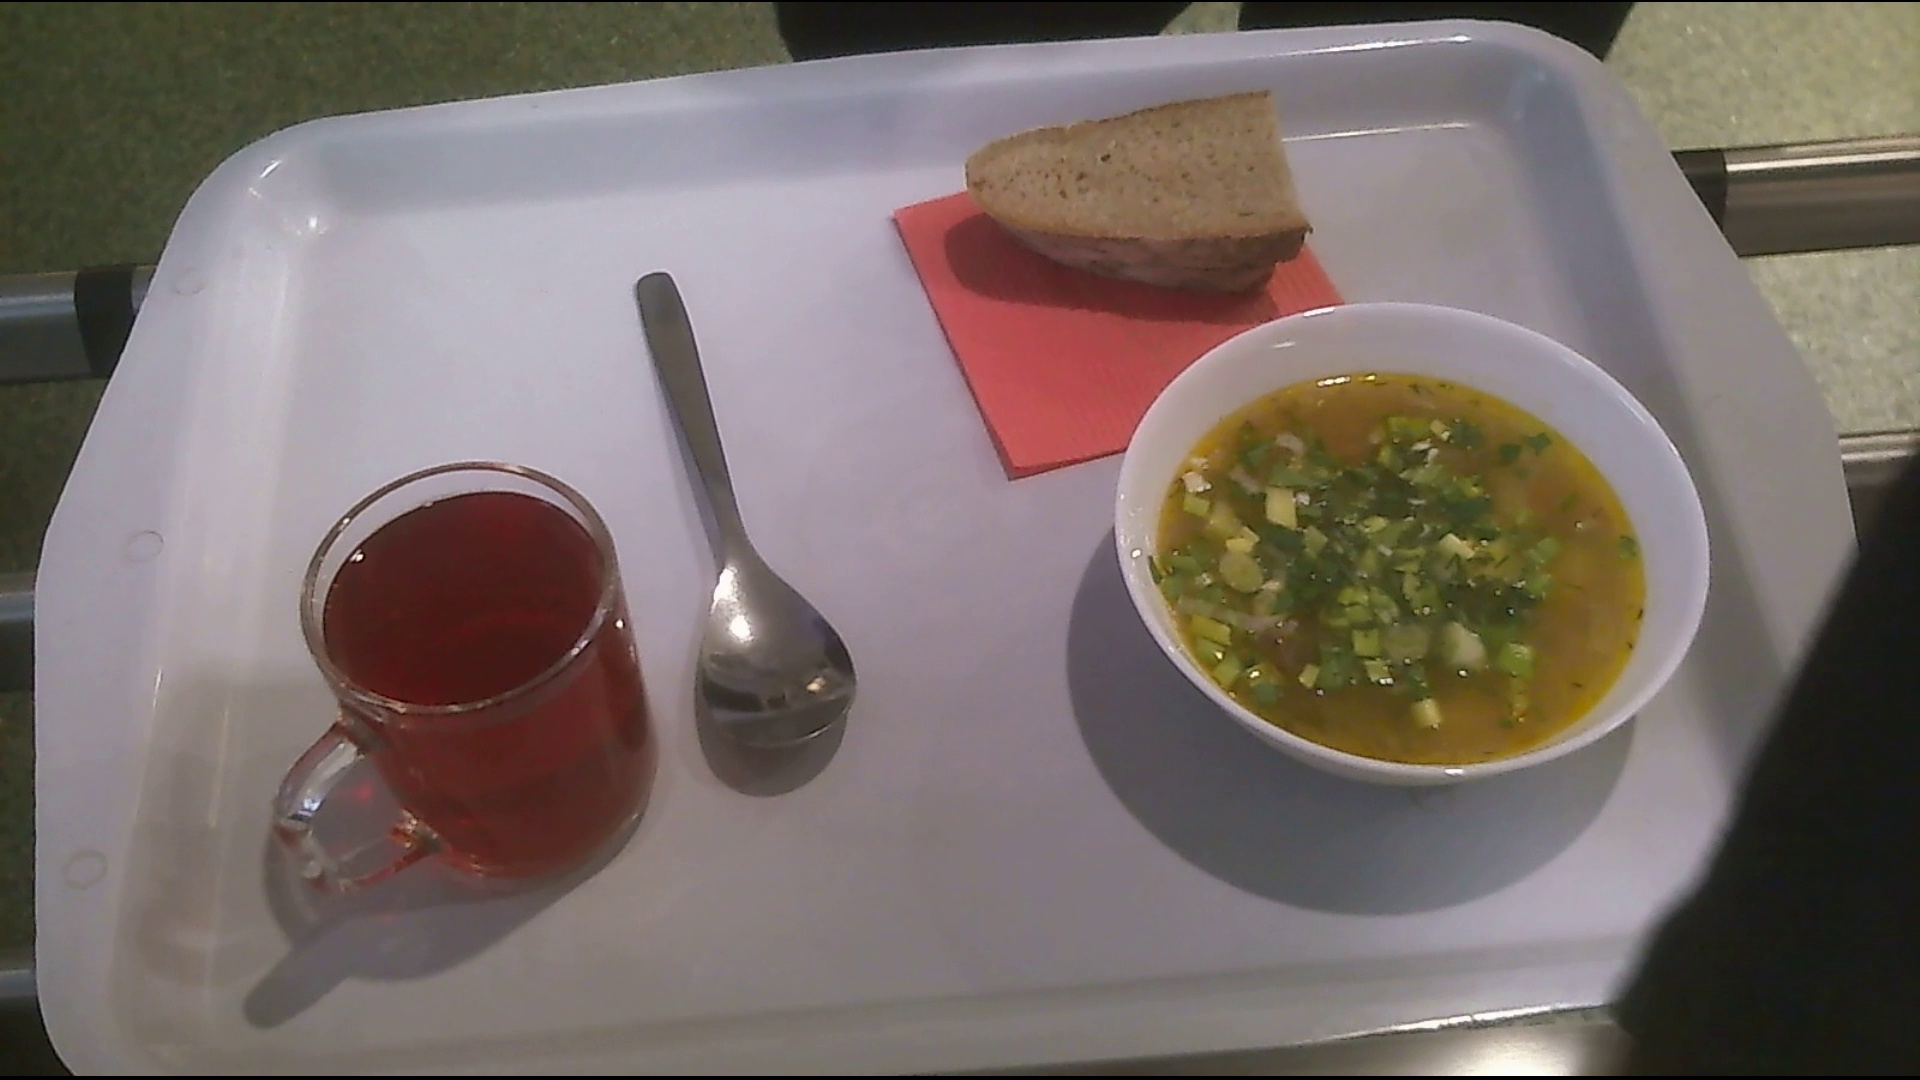bowl: (1108, 295, 1709, 786)
cutlery: (629, 264, 860, 791)
drink: (269, 471, 665, 906)
other: (960, 91, 1323, 301)
